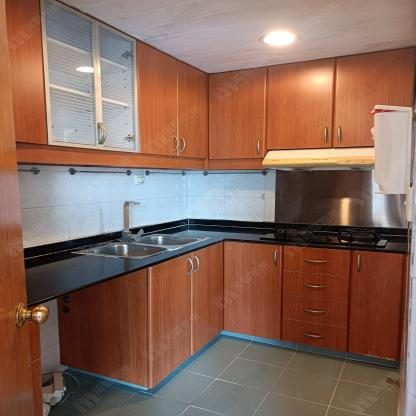Cupboard: (58, 238, 408, 390)
Exhaust Hood: (261, 146, 374, 172)
Sink: (71, 232, 208, 260)
Stove: (258, 223, 393, 246)
